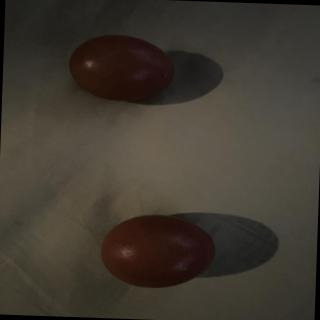Telur: (90, 207, 224, 294), (65, 32, 180, 107)
